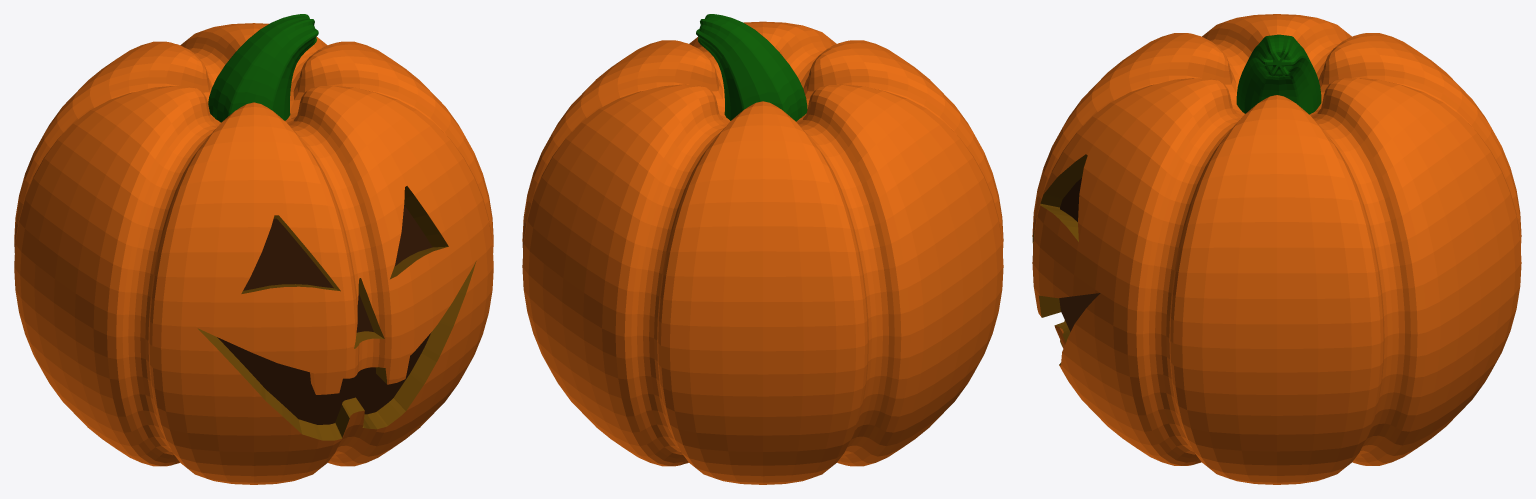
Rendered from jackOlantern.glb.
The picture shows the model from 3 angles, left to right: view 1: azimuth 30°, elevation 25°; view 2: azimuth 150°, elevation 25°; view 3: azimuth 270°, elevation 25°; orthographic projection.
Visible parts, largest first — view 1: Sphere.001, Sphere.006; view 2: Sphere.001, Sphere.006; view 3: Sphere.001, Sphere.006.
Part boxes in pixels (<box>): Sphere.001: <box>14,23,493,484</box>; Sphere.006: <box>208,14,318,122</box>; Sphere.001: <box>522,21,1003,484</box>; Sphere.006: <box>696,14,807,121</box>; Sphere.001: <box>1032,14,1521,484</box>; Sphere.006: <box>1236,34,1321,114</box>.
Size of the model in its own units: 0.9263 by 0.9018 by 0.9614.
